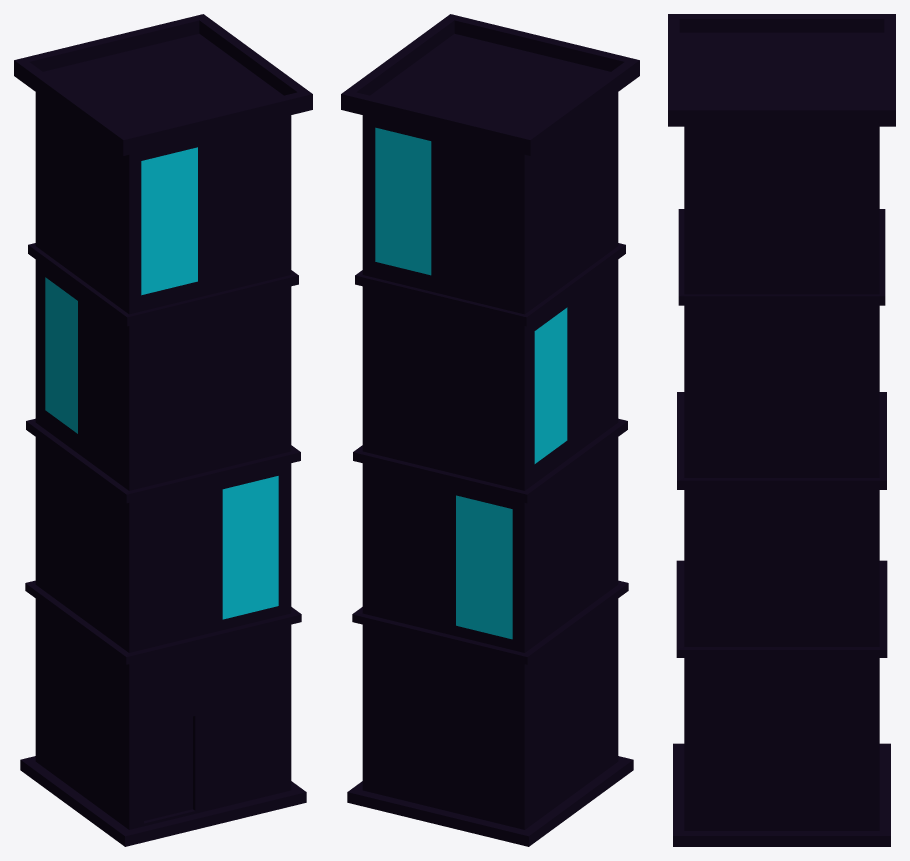
File: Oscuro Edificio 1.glb
3 views of the same model, side by side, from view 1: azimuth 30°, elevation 25°; view 2: azimuth 150°, elevation 25°; view 3: azimuth 270°, elevation 25° (orthographic). The views are drawn at different scales.
Visible parts, largest first — view 1: Cube.005; view 2: Cube.005; view 3: Cube.005.
Part boxes in pixels (<box>): Cube.005: <box>14,14,312,846</box>; Cube.005: <box>341,14,639,846</box>; Cube.005: <box>668,14,895,846</box>.
Size of the model in its own units: 13.84 by 49.53 by 13.84.
